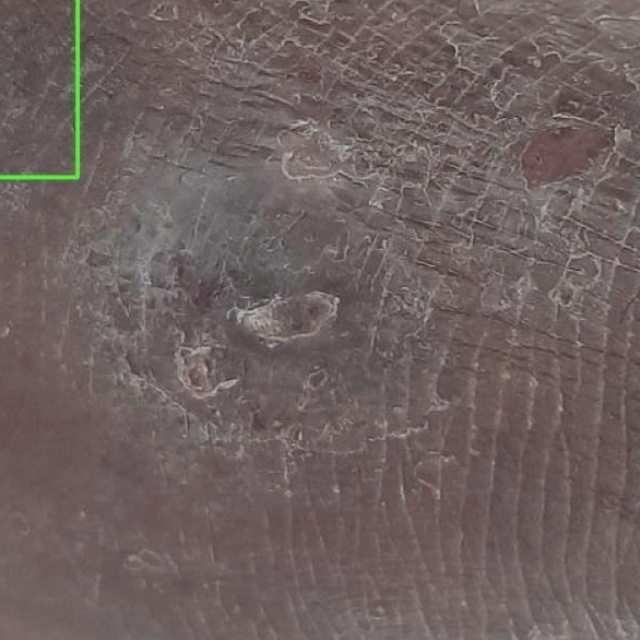Eczema: (0, 0, 77, 177)
